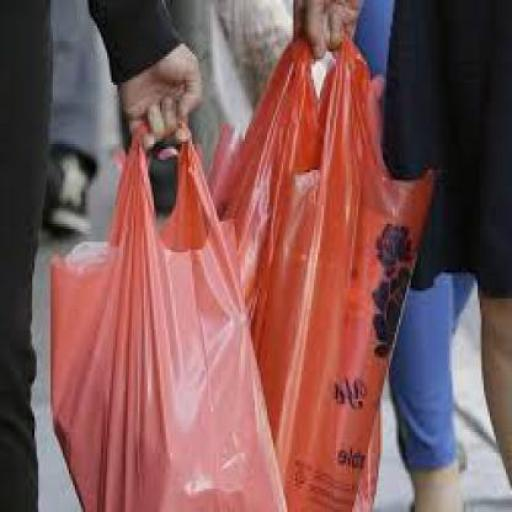plastic: (209, 26, 441, 509), (53, 118, 292, 510)
